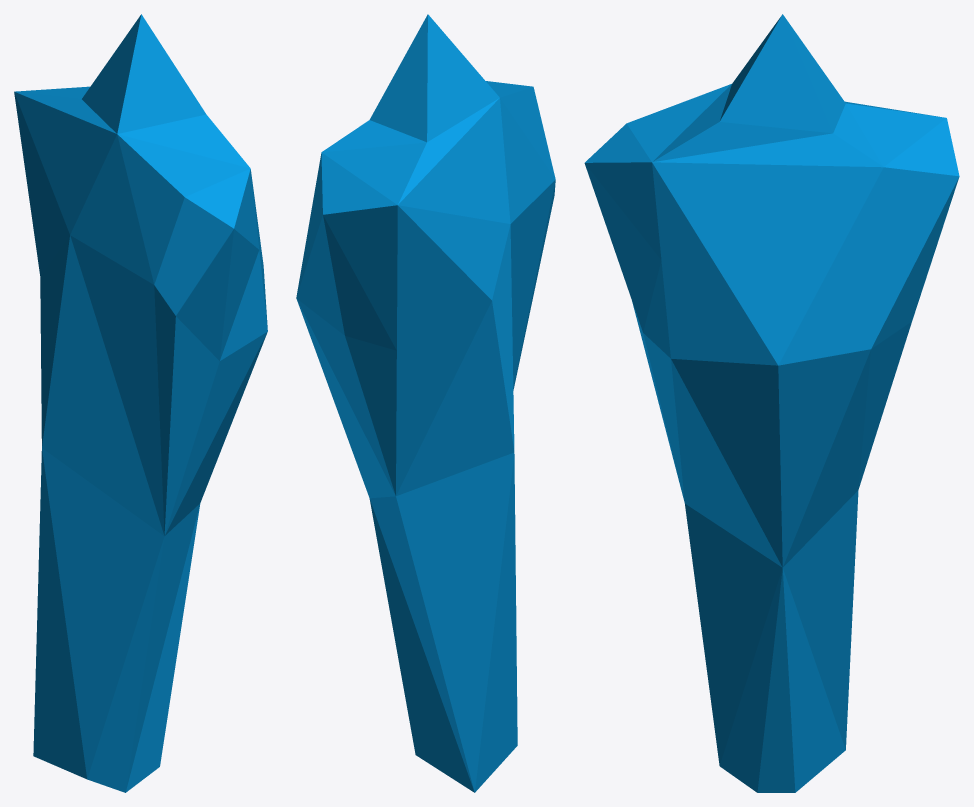
The model's file is Polygonal Man - Chest.obj.
3 renders of one model, left to right at view 1: azimuth 30°, elevation 25°; view 2: azimuth 150°, elevation 25°; view 3: azimuth 270°, elevation 25°, orthographic. The views are drawn at different scales.
Visible parts, largest first — view 1: group6414196; view 2: group6414196; view 3: group6414196.
Boxes of the visible parts, <box> form: group6414196: <box>14,14,267,792</box>; group6414196: <box>296,14,555,792</box>; group6414196: <box>584,14,959,792</box>.
Bounding box in the file's own units: 0.2031 × 0.6777 × 0.297.
